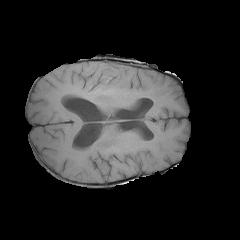glioma: (69, 63, 131, 99)
